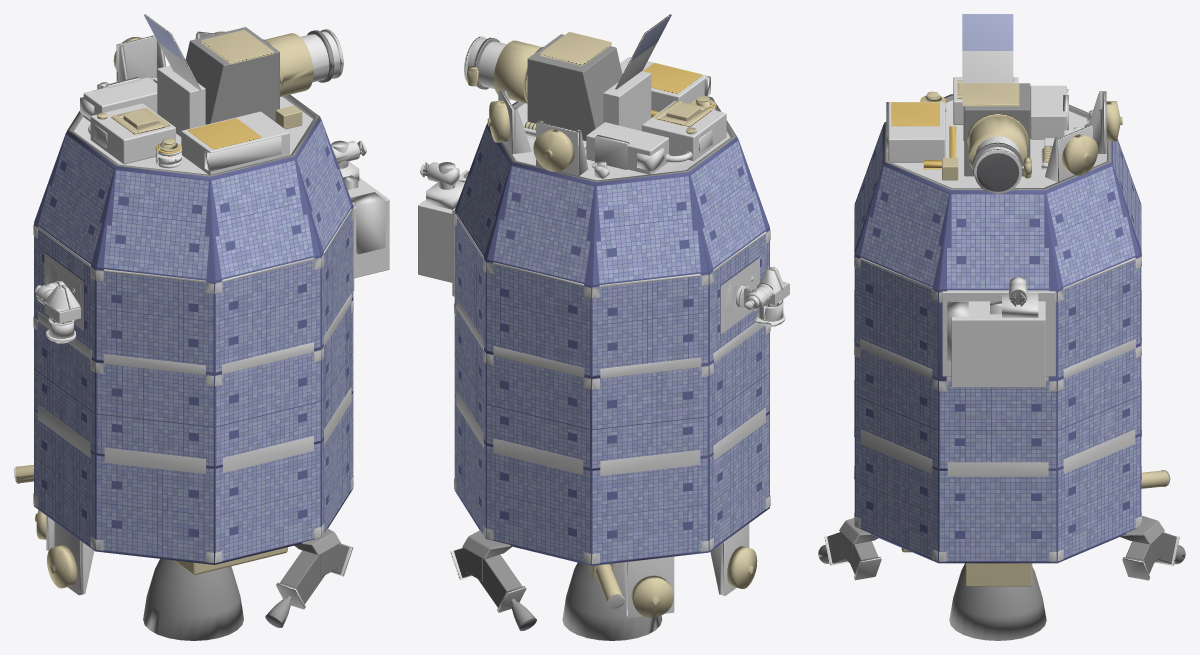
File: ladee-opt.glb
3 views of the same model, side by side, from view 1: azimuth 30°, elevation 25°; view 2: azimuth 150°, elevation 25°; view 3: azimuth 270°, elevation 25° (orthographic). The views are drawn at different scales.
Parts seen in each view (by area): view 1: Fake; view 2: Fake; view 3: Fake.
Part boxes in pixels (x1,y1,x2,y2): Fake: [14, 14, 389, 640]; Fake: [418, 14, 789, 640]; Fake: [818, 14, 1185, 640].
Bounding box in the file's own units: 37.18 × 63.9 × 36.23.
